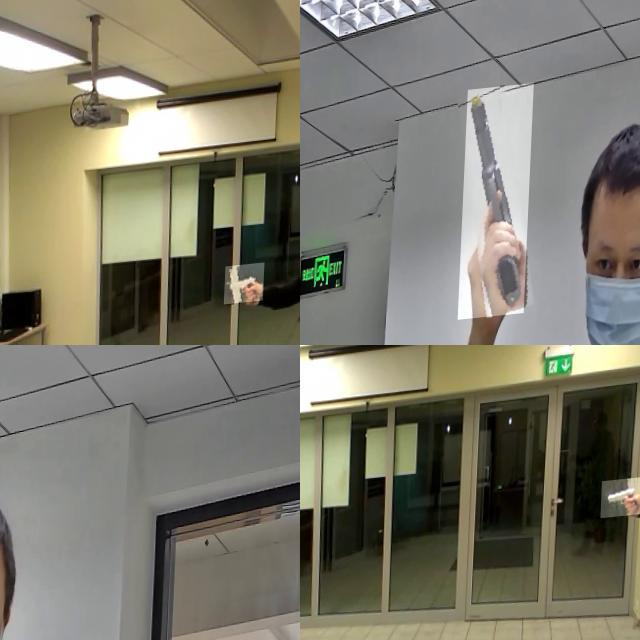gun-knife-thesis - v11 Yolov5 augmented: (462, 90, 536, 326), (0, 420, 37, 640), (227, 269, 268, 310), (603, 488, 640, 529)
